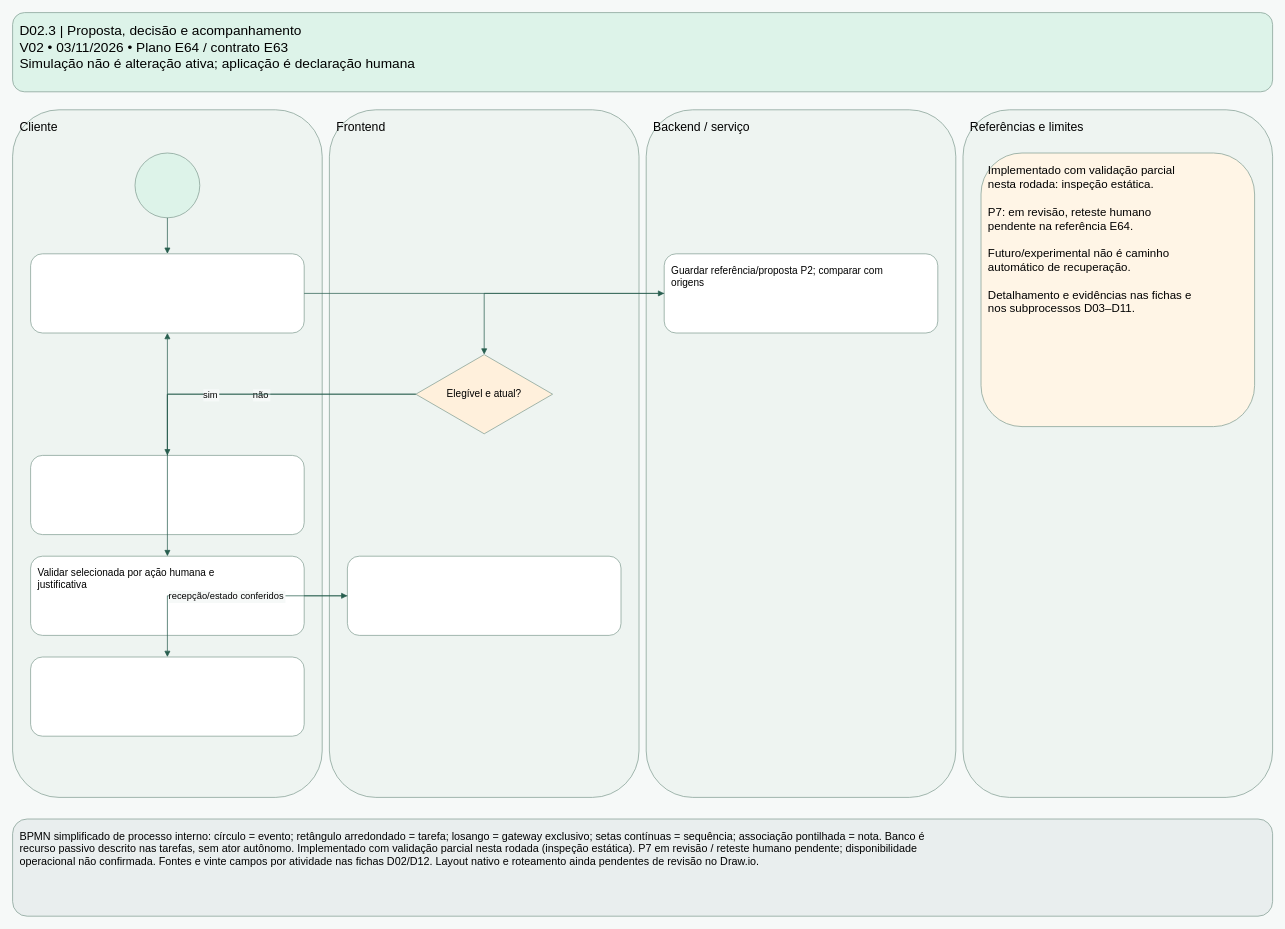
This 1285x929 diagram has some shape labels left out. The box of each missing label's shape, as (x1, y1, x2, y2) in pixels:
D02-A04 / D07 Iniciar/adotar → editar proposta → reconferir: (30, 253, 304, 333)
D02-A05 / D08 Selecionar e emitir; conferir recepção: (347, 555, 621, 635)
Declarar aplicação → acompanhar → concluir ou reabrir ciclo: (30, 656, 304, 736)
Início: (134, 152, 200, 218)
NC/stale/conflito: revisar e simular; justificativa não contorna guarda: (30, 455, 304, 535)
